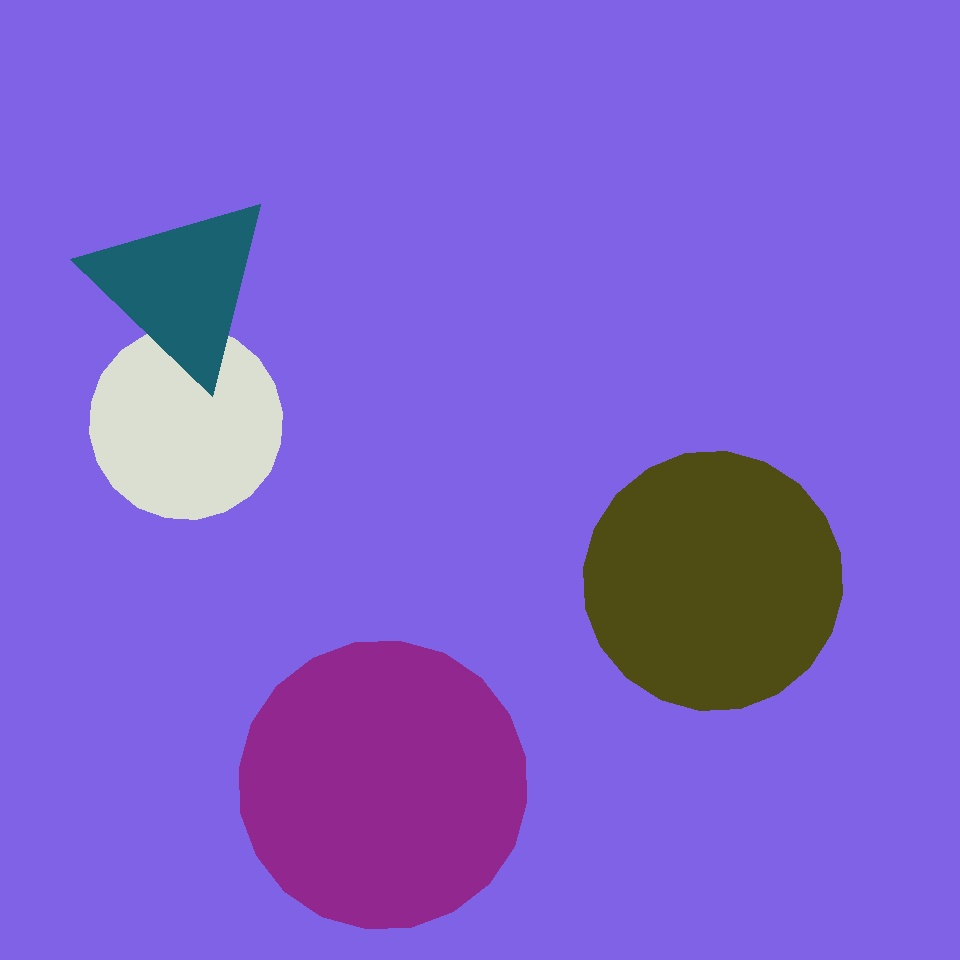circle: (86, 191, 276, 383), (790, 374, 903, 497)
square: (471, 343, 796, 667)
triangle: (240, 642, 526, 929), (584, 452, 842, 710), (90, 326, 283, 520)
